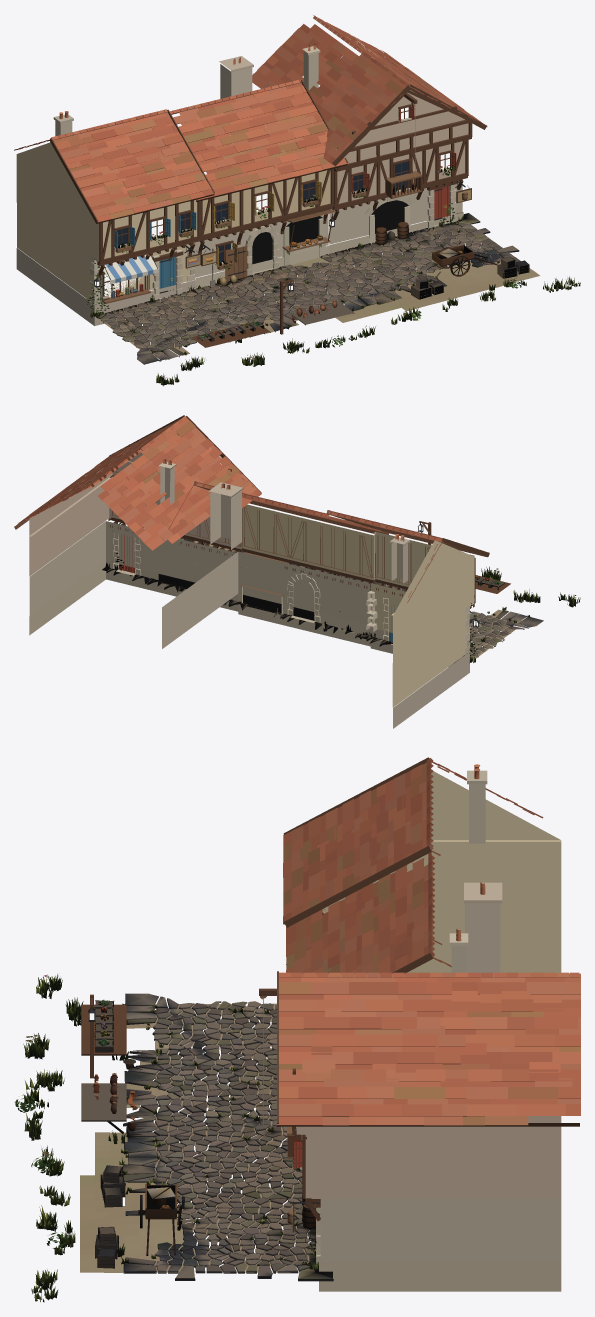
The model's file is barrio_comercial.glb.
3 renders of one model, top to bottom at view 1: azimuth 30°, elevation 25°; view 2: azimuth 150°, elevation 25°; view 3: azimuth 270°, elevation 25°, orthographic. The views are drawn at different scales.
Parts seen in each view (by area): view 1: fijo_comercial, piezas_comercial, vegetacion_comercial; view 2: fijo_comercial, piezas_comercial, vegetacion_comercial; view 3: fijo_comercial, piezas_comercial, vegetacion_comercial.
Boxes of the visible parts, box(x1,y1,x2,y2) form: fijo_comercial: box(14, 15, 539, 360); piezas_comercial: box(96, 185, 529, 364); vegetacion_comercial: box(86, 164, 580, 386); fijo_comercial: box(14, 415, 521, 728); piezas_comercial: box(102, 532, 543, 662); vegetacion_comercial: box(105, 552, 580, 663); fijo_comercial: box(80, 757, 580, 1291); piezas_comercial: box(81, 993, 333, 1281); vegetacion_comercial: box(14, 909, 324, 1302).
Size of the model in its own units: 24.97 by 10.5 by 18.84.
